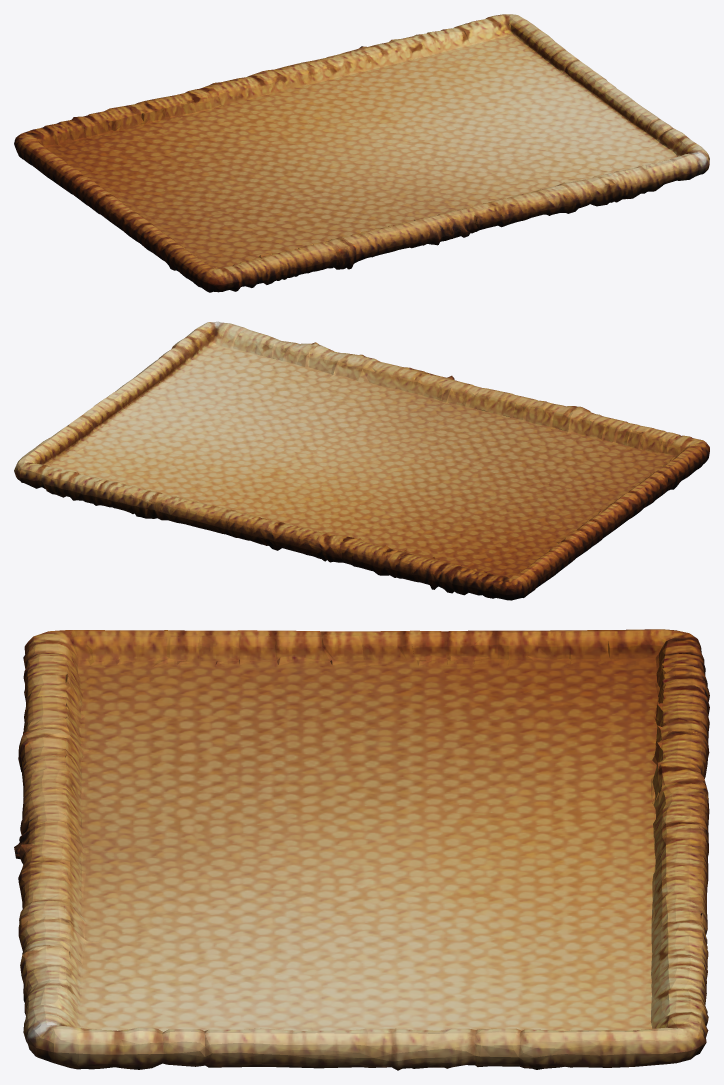
The model's file is jute-desk-mat-3d.jpeg.glb.
3 renders of one model, top to bottom at view 1: azimuth 30°, elevation 25°; view 2: azimuth 150°, elevation 25°; view 3: azimuth 270°, elevation 25°, orthographic. The views are drawn at different scales.
Parts seen in each view (by area): view 1: world; view 2: world; view 3: world.
Part boxes in pixels (bbox=[...]): world: bbox=[14, 14, 709, 292]; world: bbox=[14, 321, 709, 600]; world: bbox=[14, 629, 709, 1070].
Bounding box in the file's own units: 1 × 0.0501 × 0.7067.
1 material, 1 textured.
